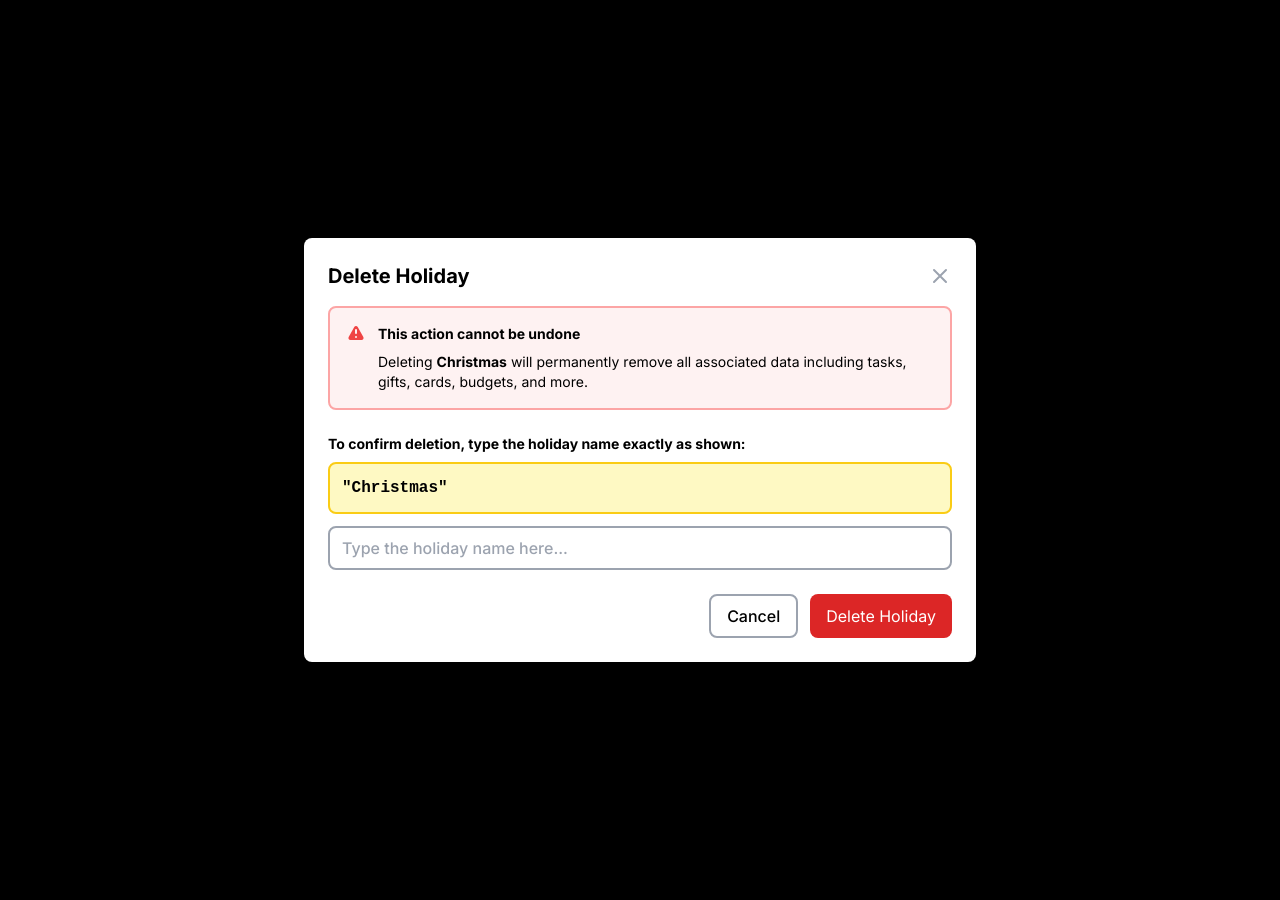
it: HolidayDeleteConfirmationModal › failures › shows the server's error message on a non-OK response
Type "Christmas" into the field with placeholder "Type the holiday name here...".
click(640, 548); type("Christmas")  # box [328,526,952,570]
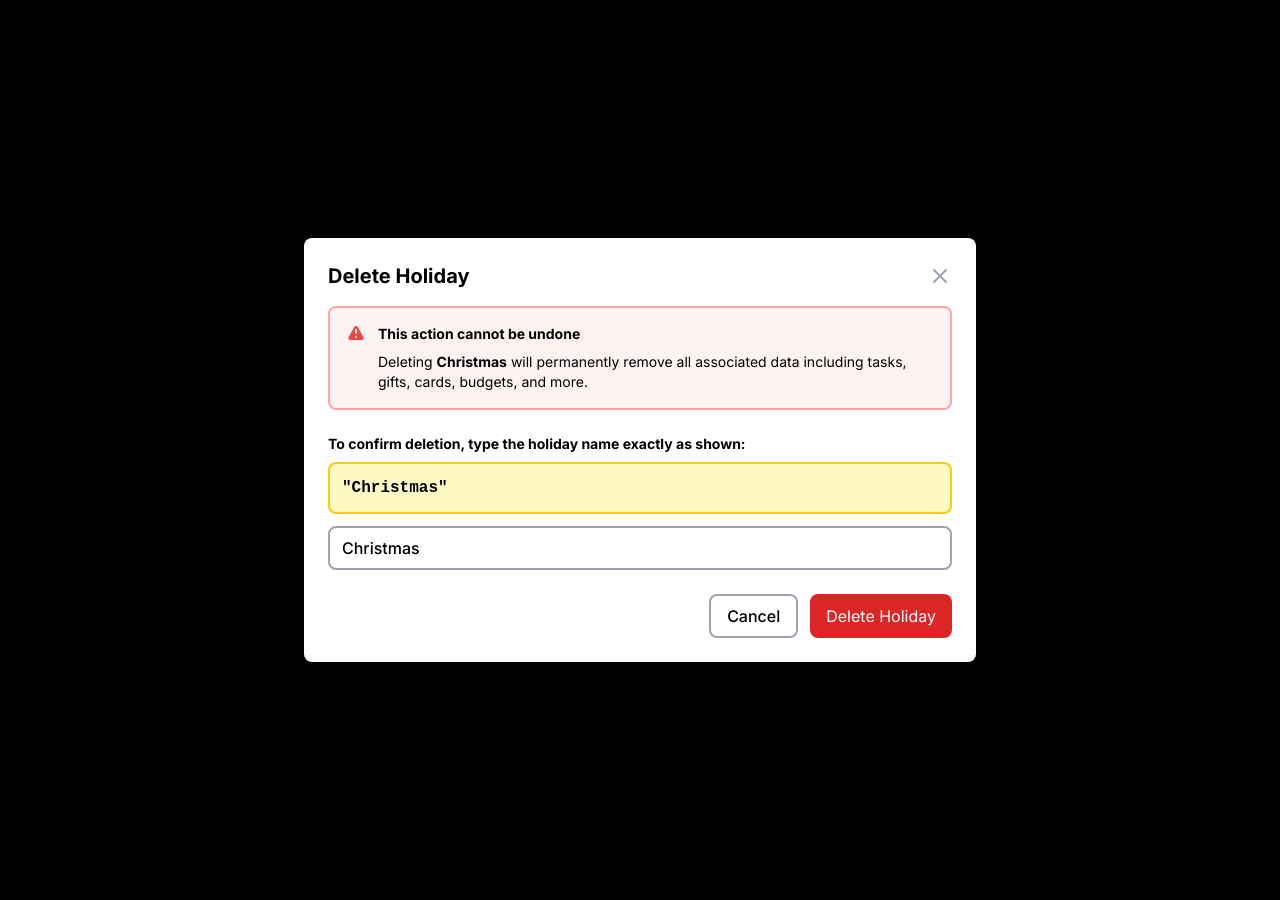
Click the button "Delete Holiday".
click(881, 616)  # box [810,594,952,638]
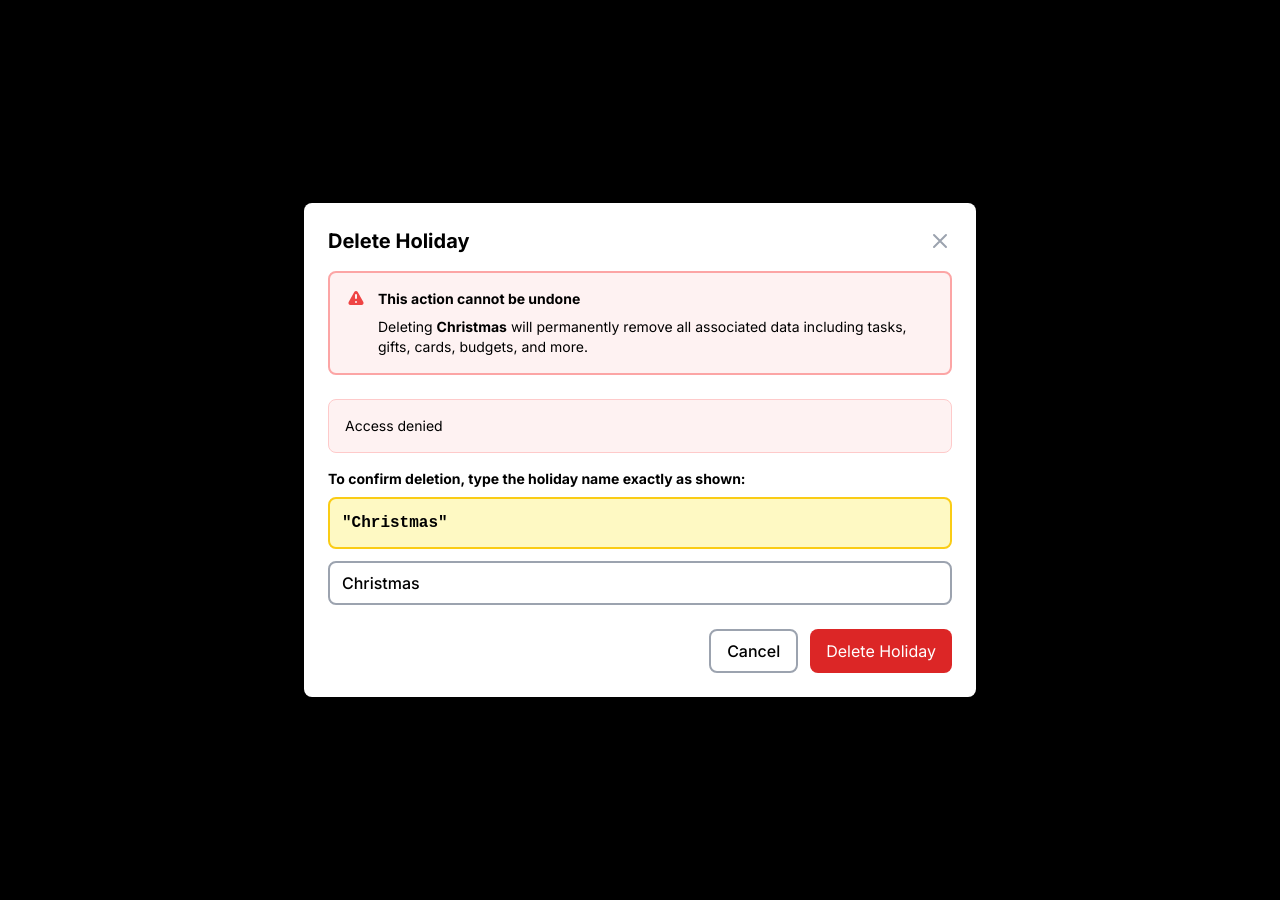
Result: the text "Access denied" is shown at [345,417,443,434]
